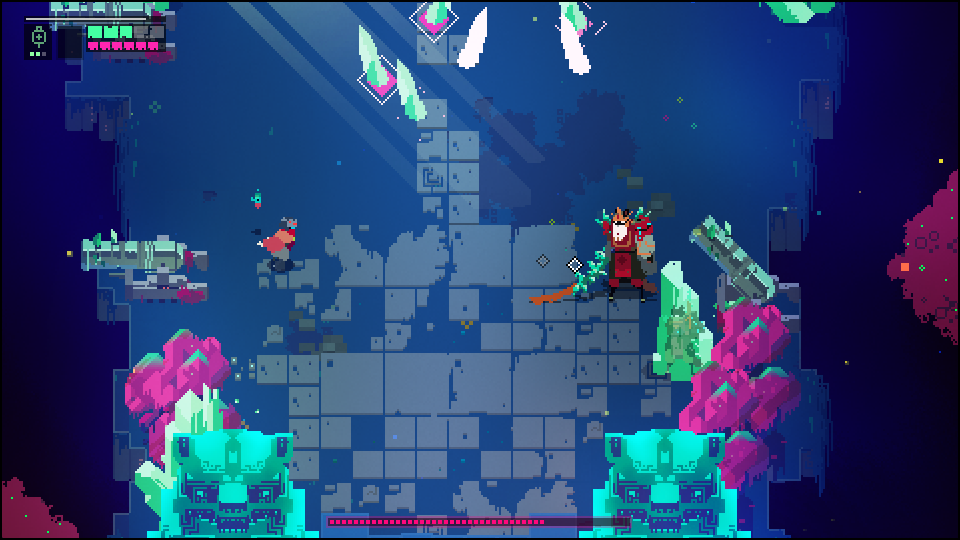hanged_crys: (451, 7, 489, 74), (560, 19, 597, 76), (396, 59, 430, 118), (358, 25, 389, 84)
hanged_man: (567, 203, 663, 308)
player: (260, 213, 301, 271)
